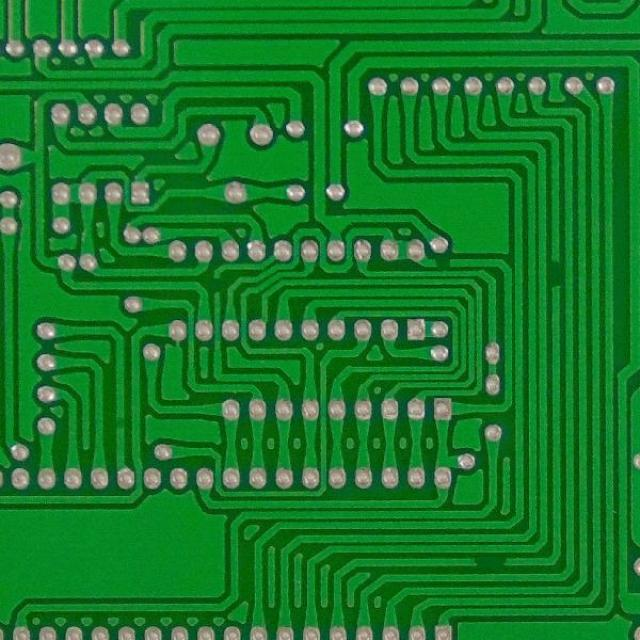open_circuit: (471, 554, 510, 570), (548, 258, 563, 293), (432, 255, 455, 271), (211, 276, 224, 297)
